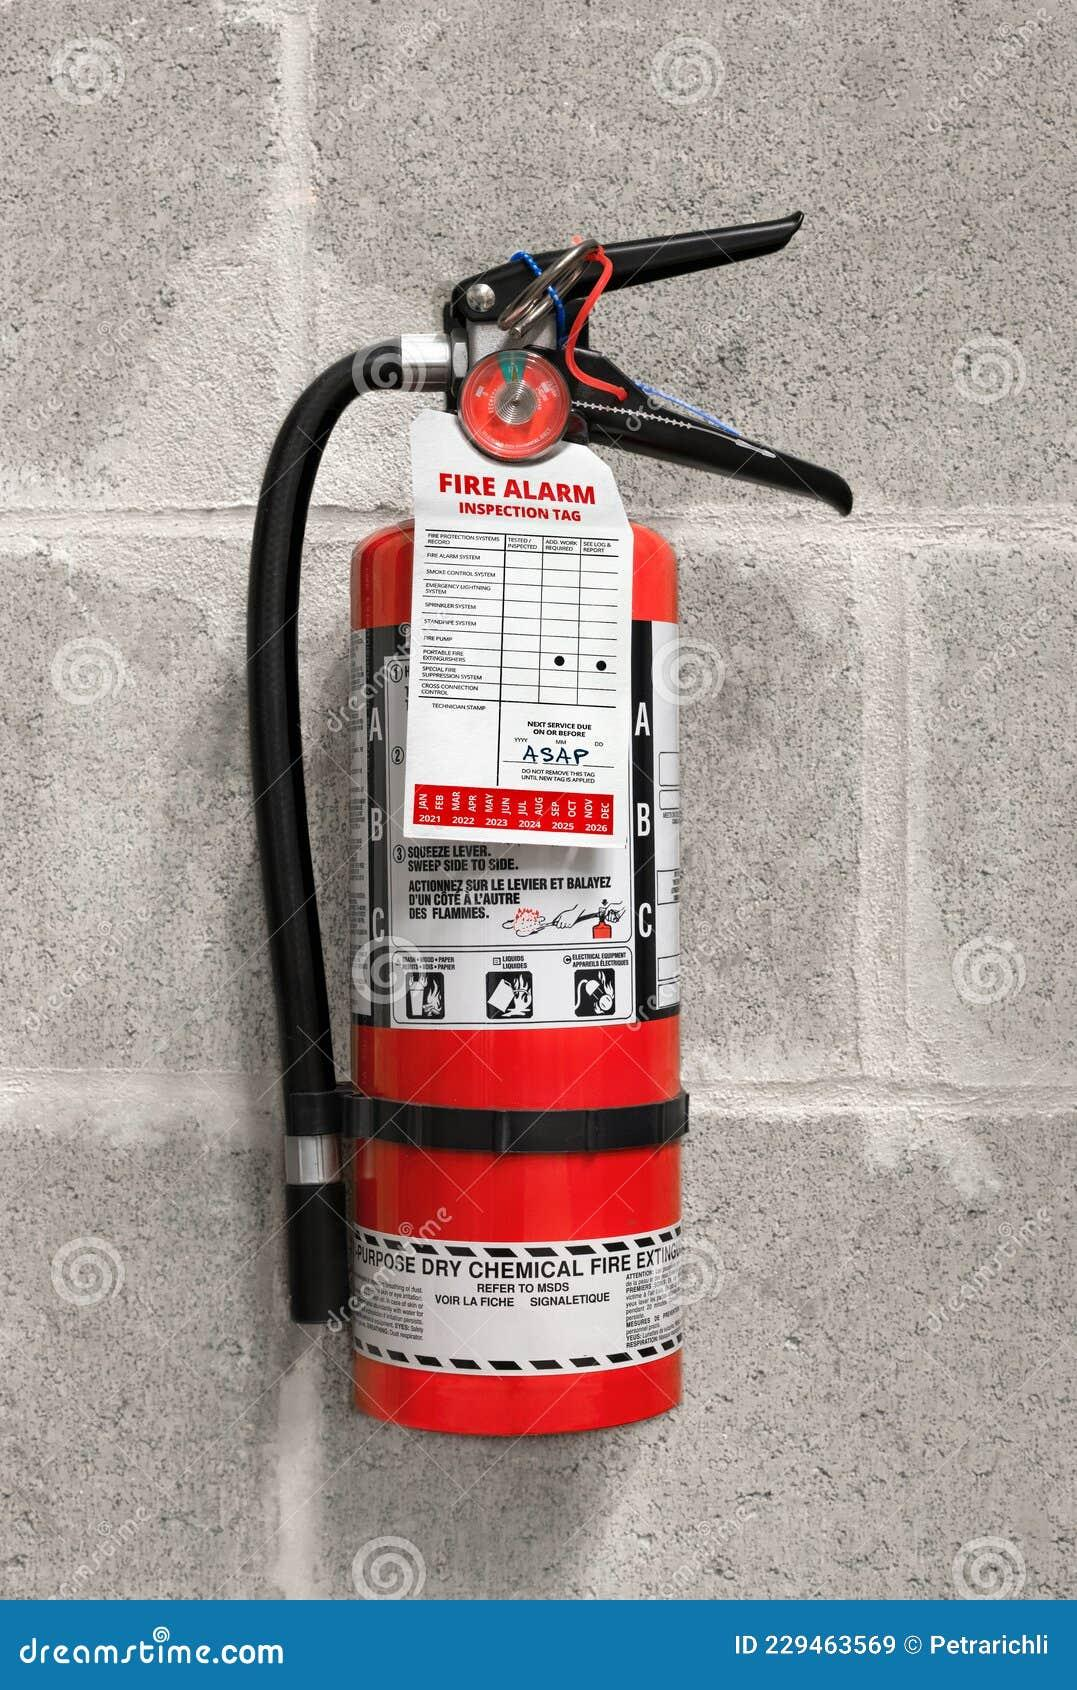wall-mounted: (145, 165, 921, 1472)
